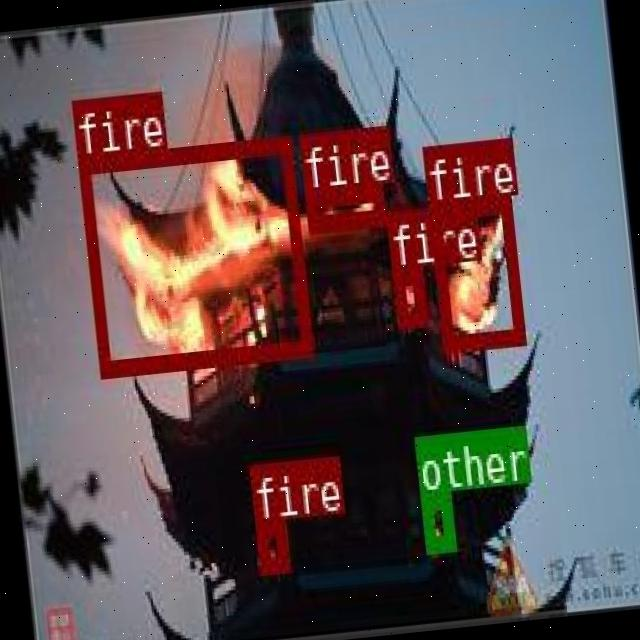fire: (75, 132, 310, 372), (427, 194, 522, 350), (304, 183, 384, 231), (390, 265, 425, 323), (255, 516, 288, 573)
